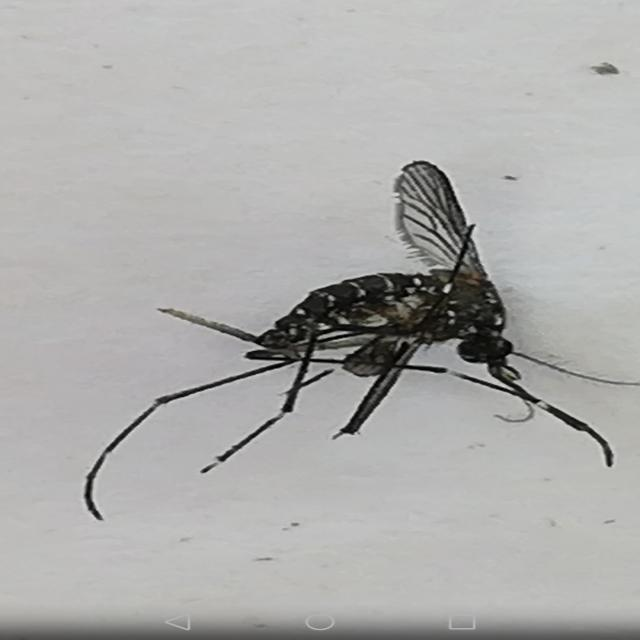albopictus: (55, 152, 640, 519)
